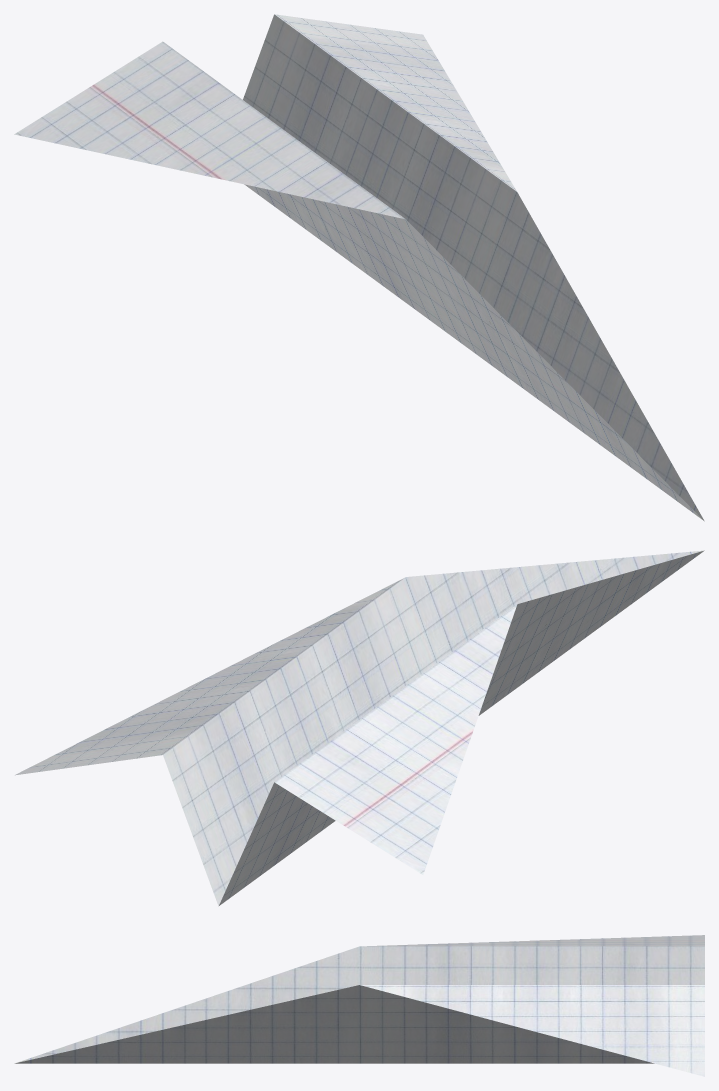
3 views of the same model, one above another, from view 1: azimuth 30°, elevation 25°; view 2: azimuth 150°, elevation 25°; view 3: azimuth 270°, elevation 25° (orthographic). The views are drawn at different scales.
Visible parts, largest first — view 1: Plane001; view 2: Plane001; view 3: Plane001.
Part boxes in pixels (x1,y1,x2,y2): Plane001: (14, 14, 704, 521); Plane001: (15, 550, 704, 906); Plane001: (14, 935, 704, 1076).
Size of the model in its own units: 0.0408 by 0.0131 by 0.0841.
Materials: 1 (1 with a texture image).
